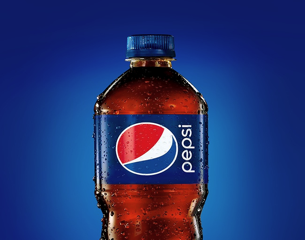pepsi: (114, 120, 179, 175), (114, 122, 179, 175)
